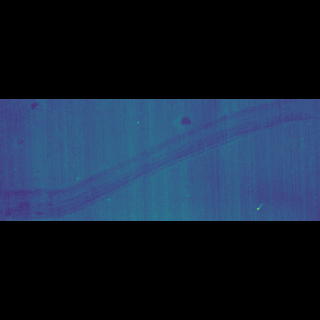Loch: (2, 136, 309, 184)
